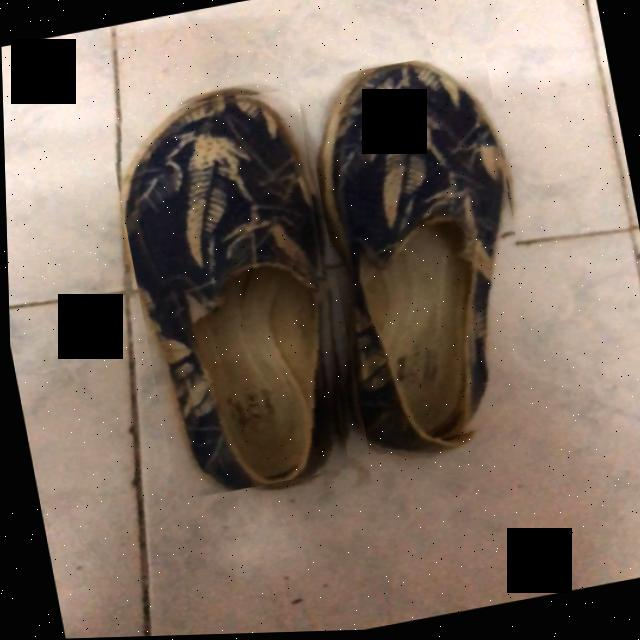shoe: (124, 97, 323, 486), (315, 63, 504, 445)
